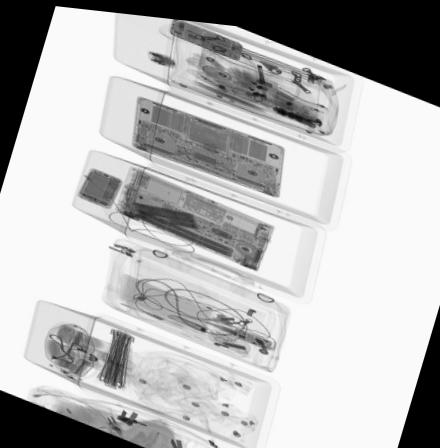Powerbank: (129, 198, 201, 226)
